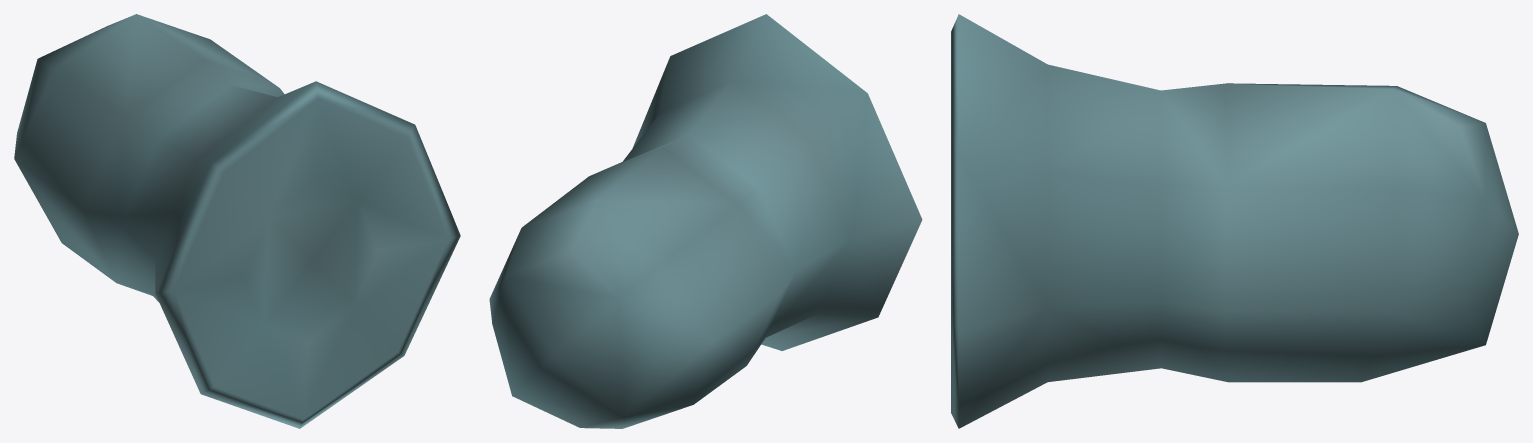
The model's file is TinyStalagmite.001.glb.
3 renders of one model, left to right at view 1: azimuth 30°, elevation 25°; view 2: azimuth 150°, elevation 25°; view 3: azimuth 270°, elevation 25°, orthographic. The views are drawn at different scales.
Parts seen in each view (by area): view 1: TinyStalagmite.001; view 2: TinyStalagmite.001; view 3: TinyStalagmite.001.
Boxes of the visible parts, x1,y1,x2,y2 form: TinyStalagmite.001: (14, 14, 460, 428); TinyStalagmite.001: (489, 14, 922, 428); TinyStalagmite.001: (951, 14, 1518, 428).
Size of the model in its own units: 275 by 296 by 362.
